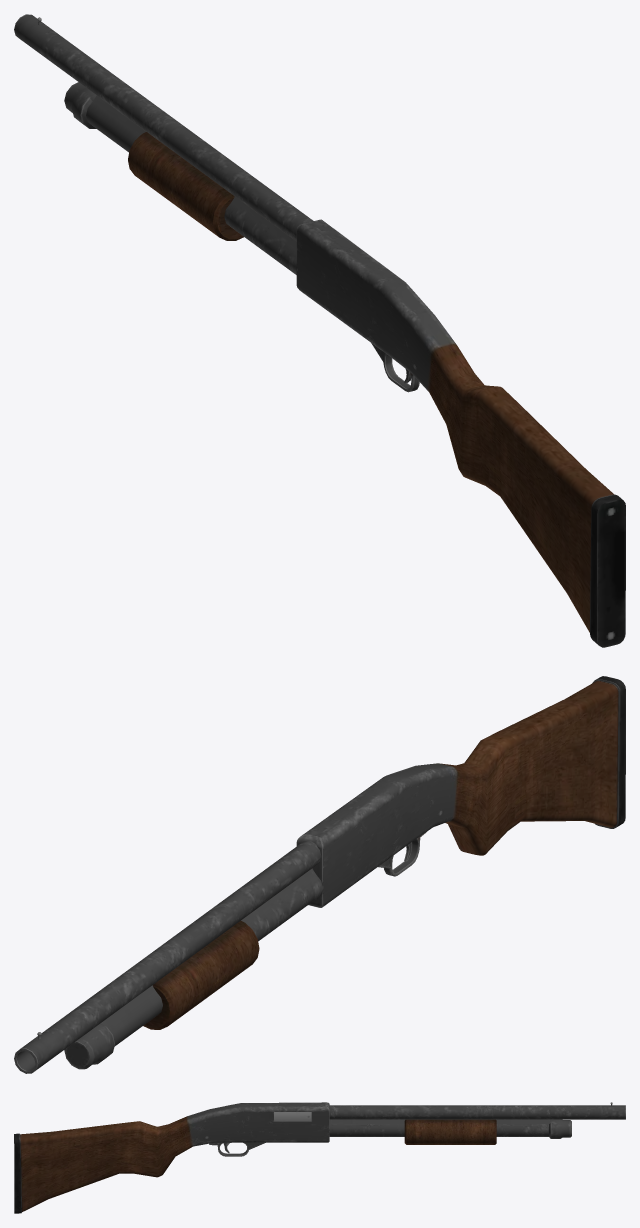
3 renders of one model, top to bottom at view 1: azimuth 30°, elevation 25°; view 2: azimuth 150°, elevation 25°; view 3: azimuth 270°, elevation 25°, orthographic. The views are drawn at different scales.
Visible parts, largest first — view 1: Gun_M1014_Mesh; view 2: Gun_M1014_Mesh; view 3: Gun_M1014_Mesh.
Boxes of the visible parts, box(x1,y1,x2,y2) form: Gun_M1014_Mesh: box(14, 14, 625, 647); Gun_M1014_Mesh: box(14, 676, 625, 1073); Gun_M1014_Mesh: box(14, 1102, 625, 1213).
Bounding box in the file's own units: 0.0488 × 0.2092 × 1.06.
Materials: 1 (1 with a texture image).
